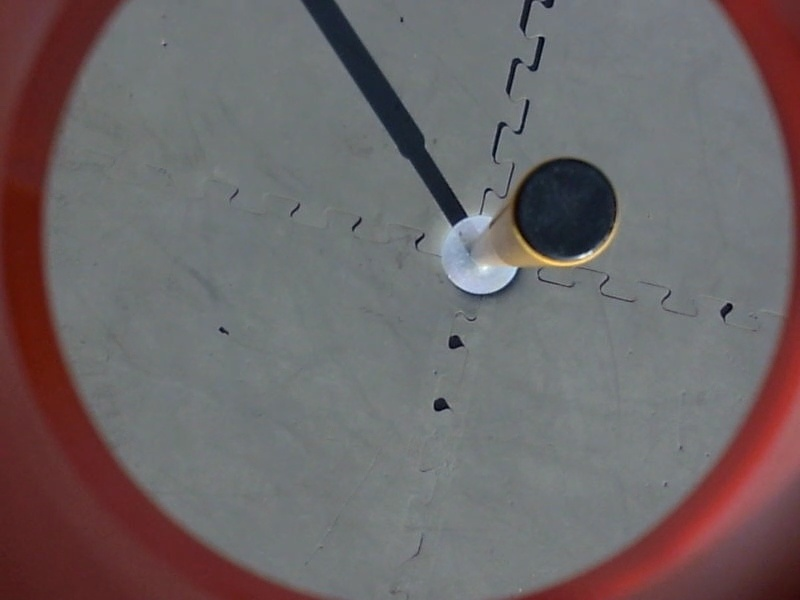tip: (503, 152, 626, 270)
